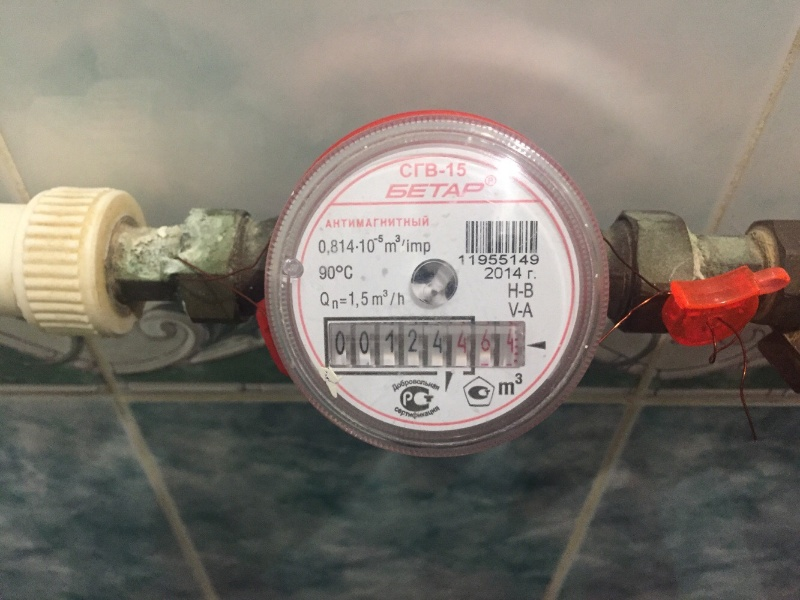dial: (326, 324, 535, 362)
